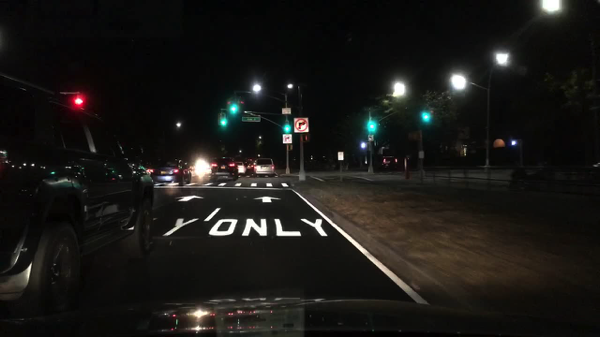car: (0, 72, 158, 319), (150, 158, 192, 186), (211, 156, 238, 182), (252, 158, 275, 176), (379, 155, 397, 171), (193, 162, 208, 176), (235, 162, 247, 176), (590, 158, 599, 169), (244, 159, 253, 169)
motor: (508, 164, 553, 191)
traffic light: (74, 93, 84, 106), (220, 111, 227, 126), (422, 113, 432, 123), (283, 122, 292, 133), (369, 122, 377, 132), (360, 141, 367, 151), (510, 139, 518, 147), (303, 135, 311, 143), (229, 104, 236, 113), (239, 99, 245, 107), (225, 99, 231, 105)
traffic sign: (294, 118, 310, 134), (407, 132, 423, 141), (457, 128, 469, 139), (281, 135, 293, 145), (241, 117, 262, 122), (281, 108, 291, 116), (337, 151, 344, 161), (367, 135, 374, 142)
